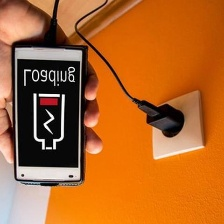phone: (9, 39, 89, 187)
